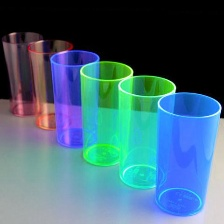glass: (152, 91, 224, 218), (112, 73, 178, 191), (75, 57, 139, 169), (45, 46, 110, 152), (23, 35, 83, 135), (0, 25, 46, 119)
